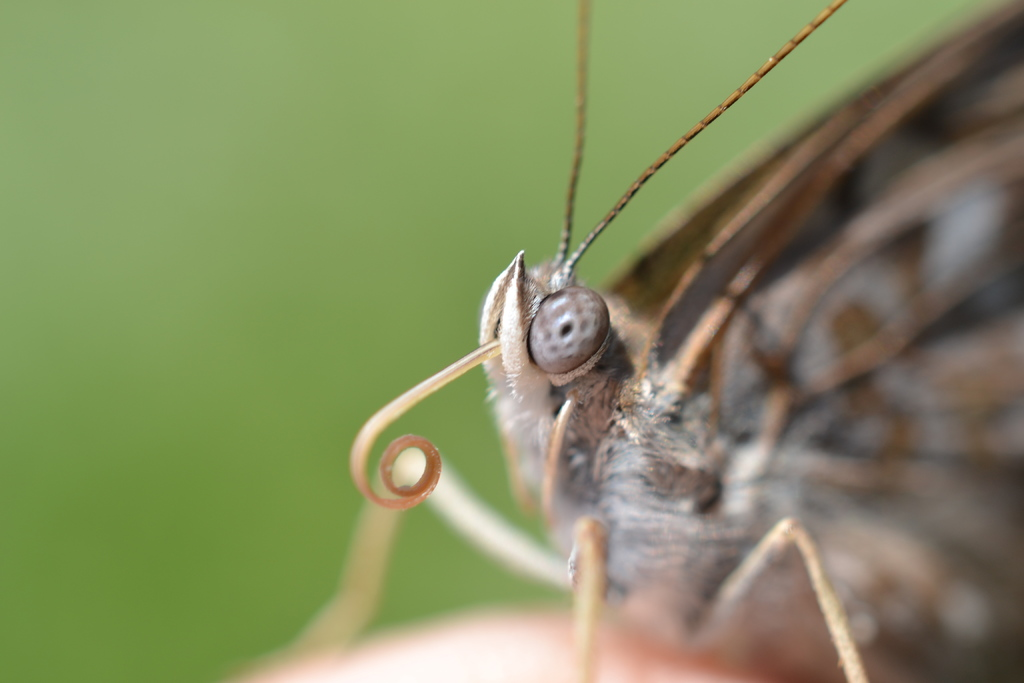Butterfly: (385, 96, 1024, 637)
